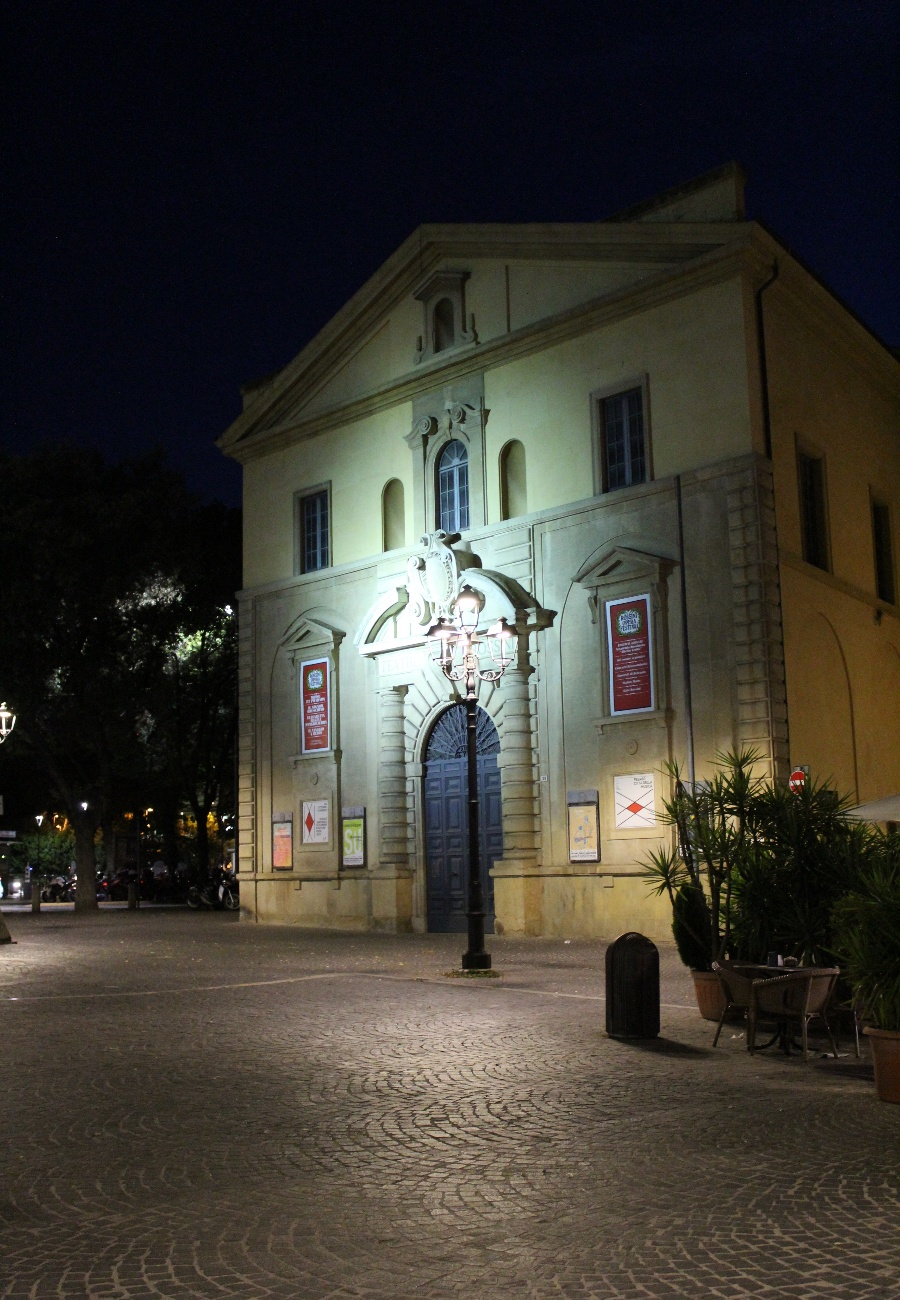Teatro Rossini: (230, 172, 774, 936)
